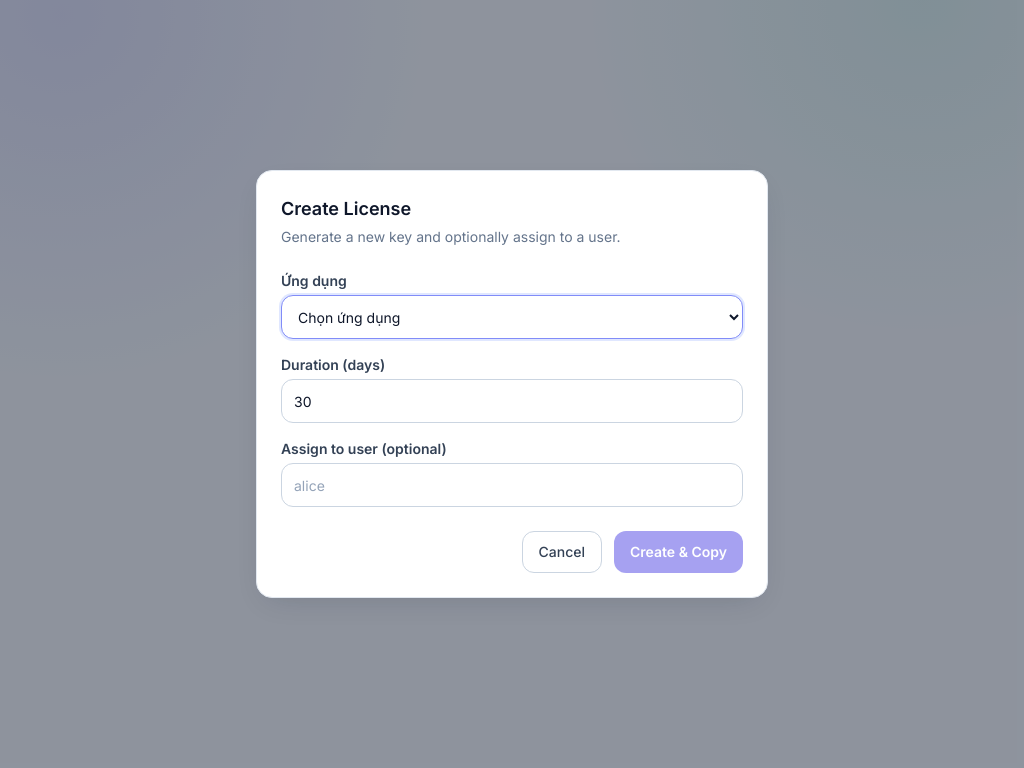
Scenario: CreateLicenseModal › validates duration days
Select "tool_reup_youtube_master" in the dropdown labelled "Ứng dụng" at (512, 317), box [281,295,743,339]
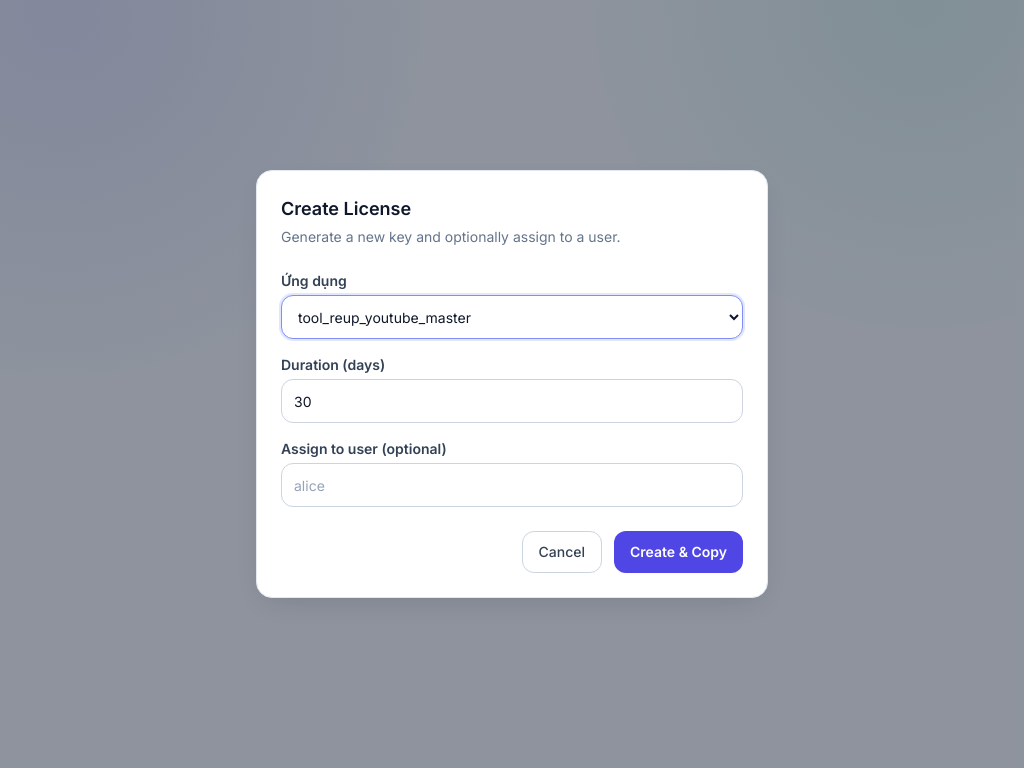
Type "0" into the number field labelled "Duration (days)" at (512, 401), box [281,379,743,423]
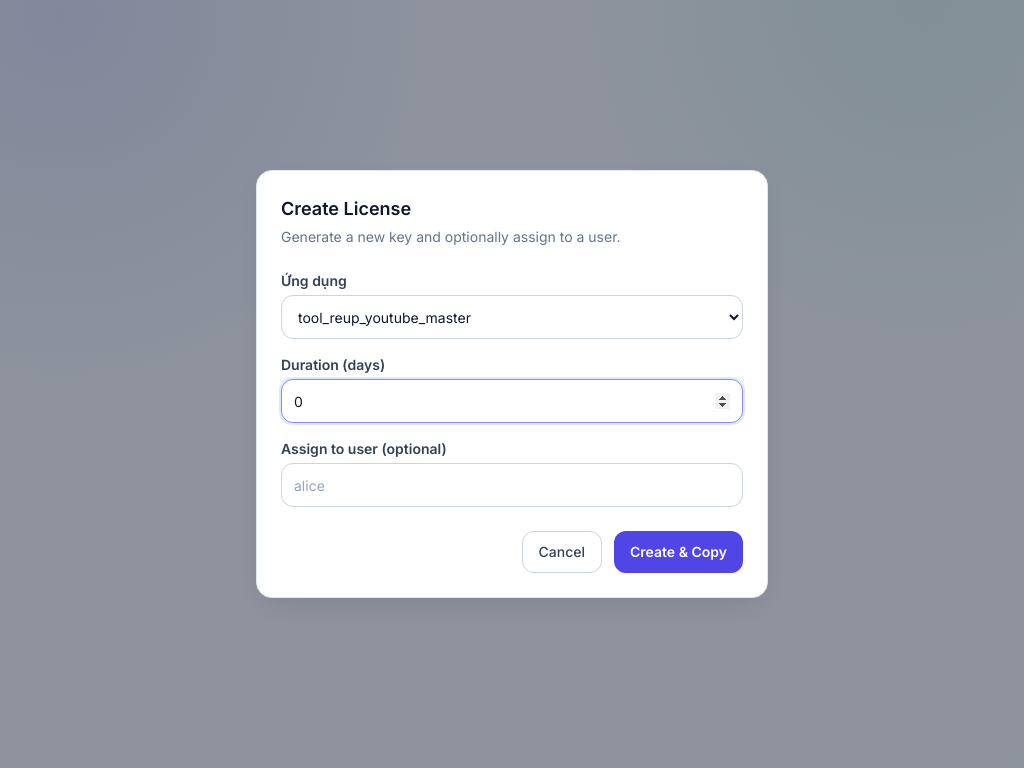
Click the button "Create & Copy" at (678, 552), box [614,531,743,573]
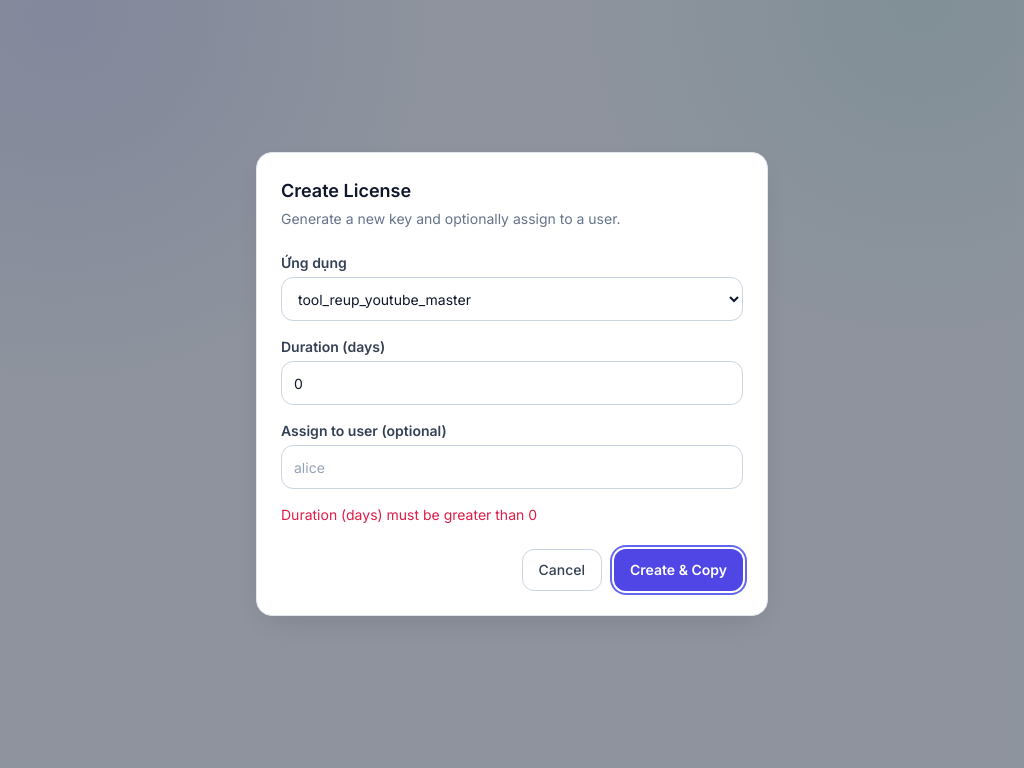
Expected: the text "Duration (days) must be greater than 0" is shown, [281,506,537,523]
